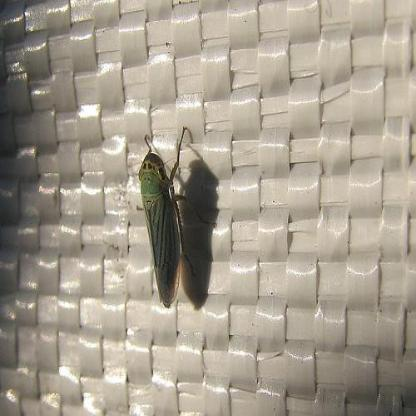Green-Leafhopper: (136, 125, 200, 308)
